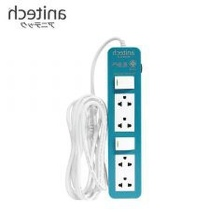three_eye_plug: (104, 42, 147, 203)
